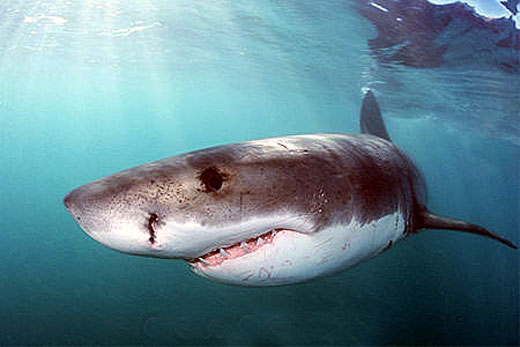Carcharodon_carcharias: (55, 75, 476, 295)
